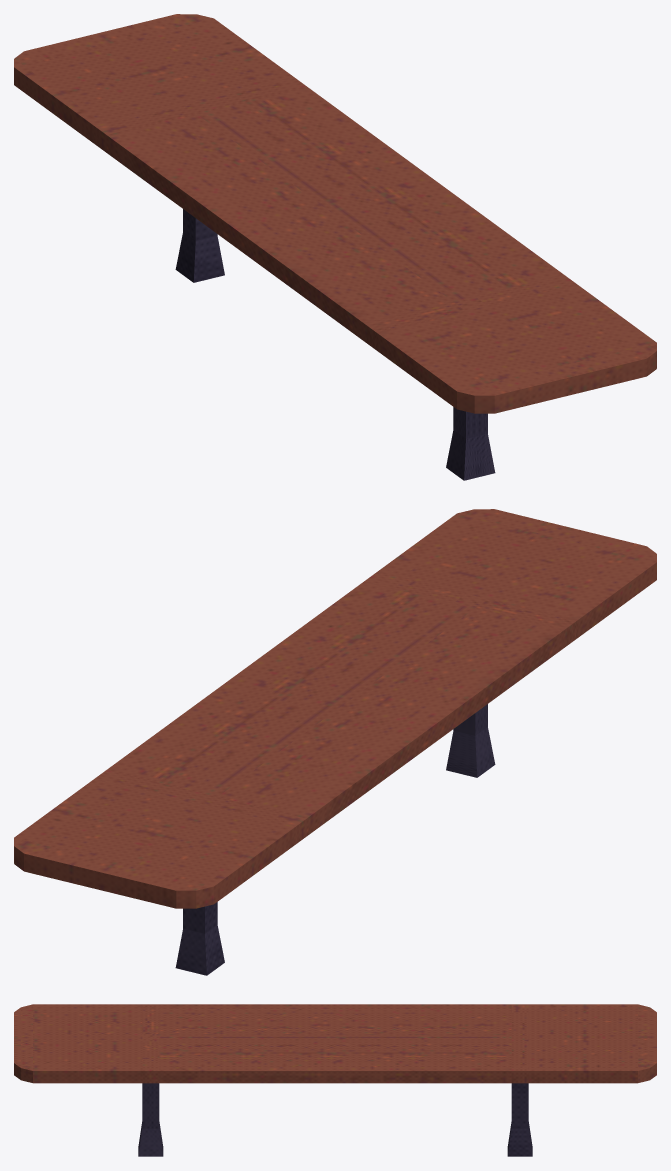
File: bench.fbx
3 renders of one model, top to bottom at view 1: azimuth 30°, elevation 25°; view 2: azimuth 150°, elevation 25°; view 3: azimuth 270°, elevation 25°, orthographic. The views are drawn at different scales.
Parts seen in each view (by area): view 1: Bench; view 2: Bench; view 3: Bench.
Part boxes in pixels (x1=…): Bench: x1=14, y1=14, x2=656, y2=480; Bench: x1=14, y1=509, x2=656, y2=975; Bench: x1=14, y1=1004, x2=656, y2=1156.
Bounding box in the file's own units: 7.34 × 5.84 × 29.92.
